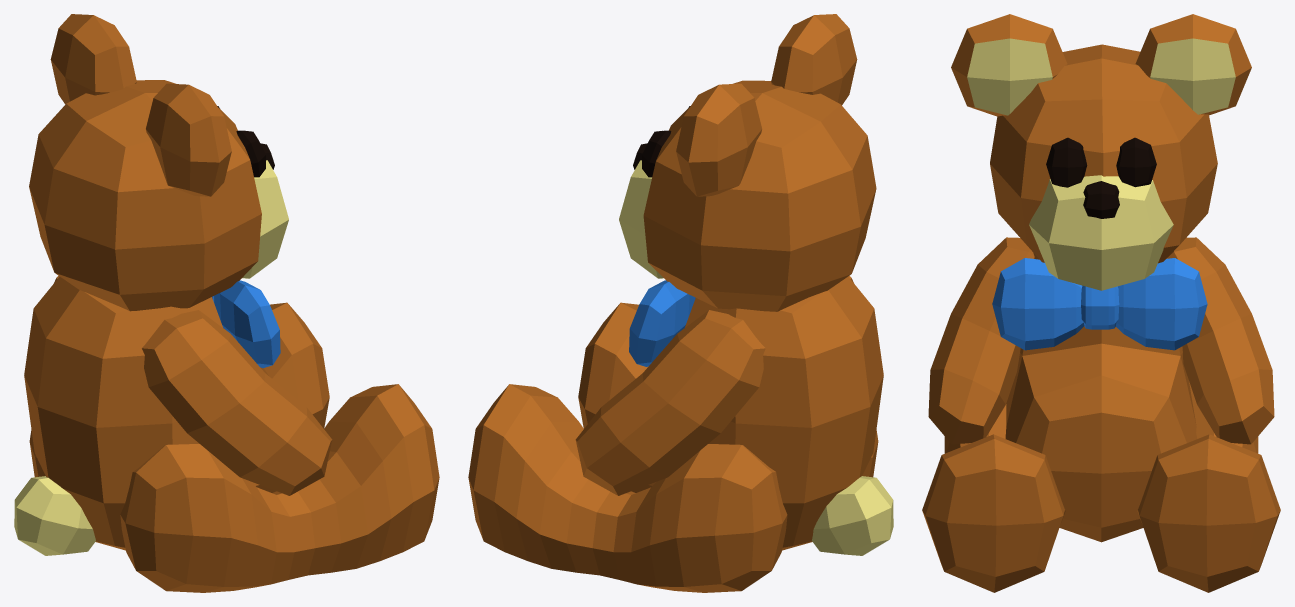
File: teddy_bear.fbx
The picture shows the model from 3 angles, left to right: view 1: azimuth 30°, elevation 25°; view 2: azimuth 150°, elevation 25°; view 3: azimuth 270°, elevation 25°; orthographic projection. The views are drawn at different scales.
Visible parts, largest first — view 1: Cube.002, Cube.006, Cube, Cube.004, Cube.008, Cube.009, Cube.005, Cube.001, Cube.014, Cube.007, Cube.011; view 2: Cube.001, Cube.006, Cube, Cube.003, Cube.009, Cube.008, Cube.005, Cube.002, Cube.014, Cube.007, Cube.012; view 3: Cube, Cube.006, Cube.001, Cube.002, Cube.014, Cube.003, Cube.004, Cube.007, Cube.008, Cube.009, Cube.011, Cube.012 (+1 smaller).
Boxes of the visible parts, bbox=[...] form: Cube.002: bbox=[120, 384, 439, 592]; Cube.006: bbox=[29, 80, 261, 311]; Cube: bbox=[24, 276, 276, 550]; Cube.004: bbox=[142, 310, 332, 495]; Cube.008: bbox=[146, 83, 231, 196]; Cube.009: bbox=[50, 14, 136, 104]; Cube.005: bbox=[14, 476, 95, 555]; Cube.001: bbox=[29, 302, 329, 477]; Cube.014: bbox=[212, 280, 280, 368]; Cube.007: bbox=[242, 160, 288, 278]; Cube.011: bbox=[236, 130, 265, 177]; Cube.001: bbox=[468, 384, 787, 592]; Cube.006: bbox=[643, 80, 876, 311]; Cube: bbox=[631, 276, 883, 550]; Cube.003: bbox=[575, 310, 765, 495]; Cube.009: bbox=[676, 83, 761, 196]; Cube.008: bbox=[771, 14, 857, 105]; Cube.005: bbox=[812, 476, 893, 555]; Cube.002: bbox=[578, 302, 878, 477]; Cube.014: bbox=[629, 280, 695, 366]; Cube.007: bbox=[619, 160, 663, 278]; Cube.012: bbox=[642, 130, 671, 177]; Cube: bbox=[1005, 253, 1197, 542]; Cube.006: bbox=[990, 44, 1217, 263]; Cube.001: bbox=[1137, 381, 1280, 592]; Cube.002: bbox=[922, 404, 1065, 592]; Cube.014: bbox=[992, 258, 1207, 350]; Cube.003: bbox=[1167, 237, 1274, 444]; Cube.004: bbox=[928, 237, 1034, 444]; Cube.007: bbox=[1029, 175, 1173, 290]; Cube.008: bbox=[951, 14, 1067, 116]; Cube.009: bbox=[1135, 14, 1251, 115]; Cube.011: bbox=[1046, 137, 1087, 187]; Cube.012: bbox=[1116, 137, 1156, 187].
Size of the model in its own units: 99.45 by 139 by 91.98.
